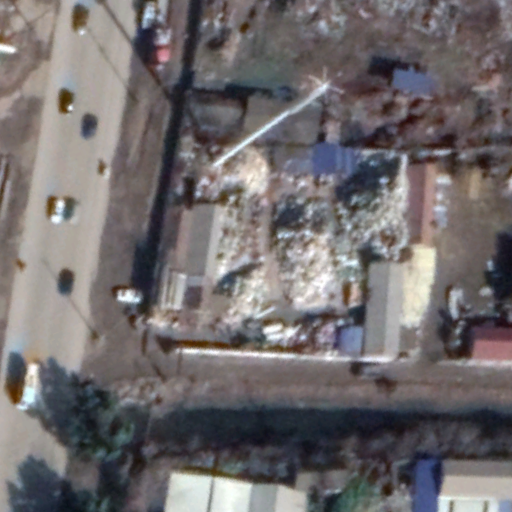msw: (206, 140, 410, 355)
